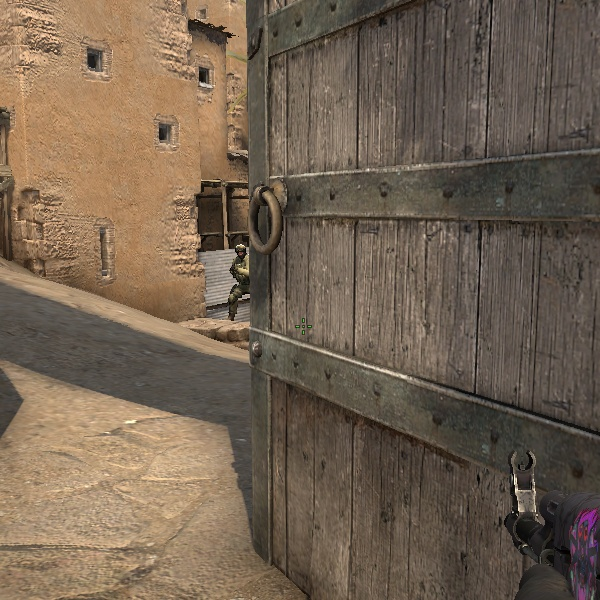ct_body: (228, 245, 252, 322)
ct_head: (235, 245, 247, 261)
